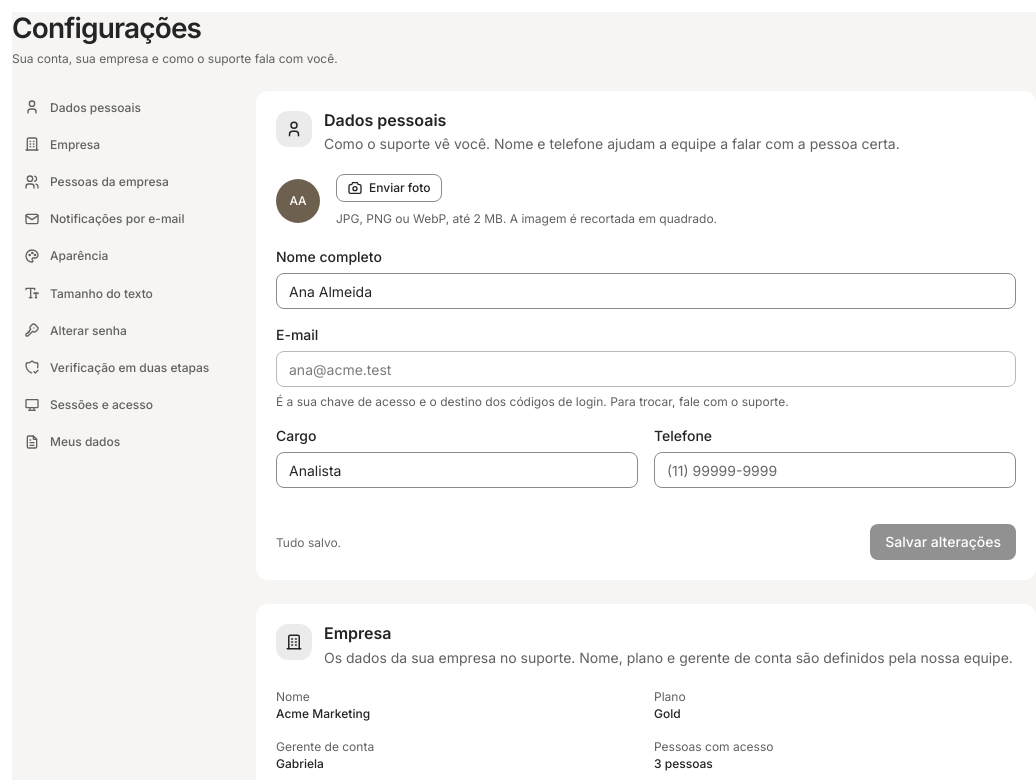
Scenario: PaginaConfiguracoes › dados pessoais: e-mail travado, nome editável, salvar só depois de mudar algo
This screenshot has width=1036, height=780.
Expected: the field labelled "E-mail" is disabled, [276, 351, 1016, 387]
Expected: the button "Salvar alterações" is disabled, [870, 524, 1016, 560]
Replace the text in the field labelled "Nome completo" with "Ana Beatriz Almeida" at (646, 291), box [276, 273, 1016, 309]
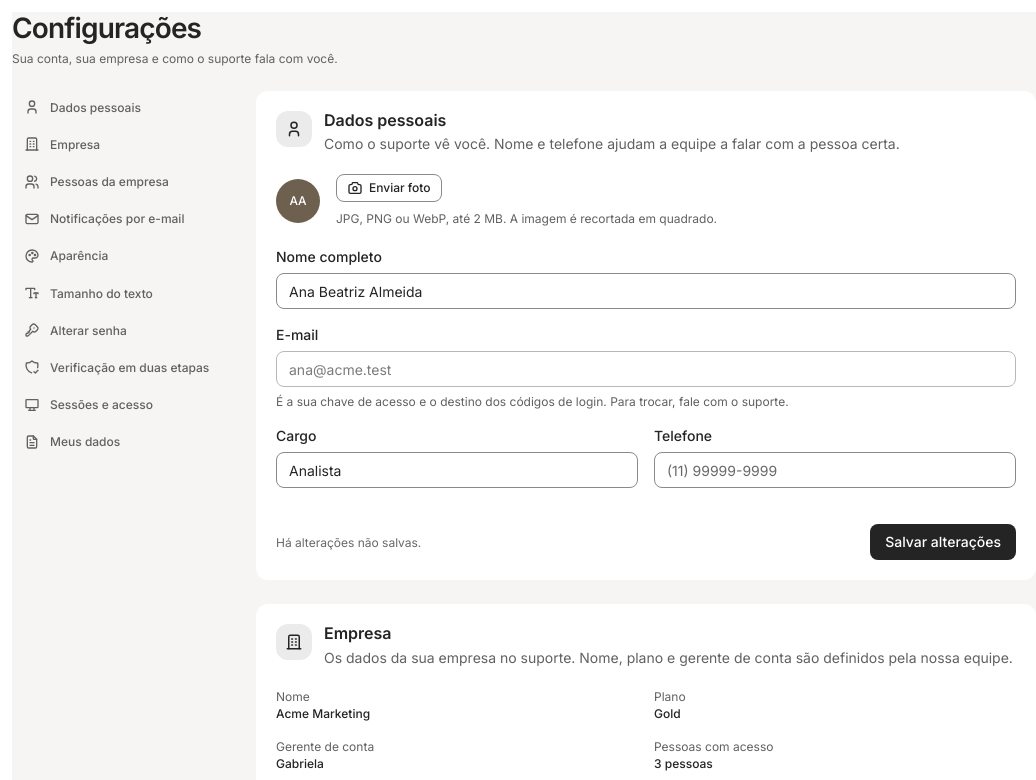
Type "(11) 99999-0000" into the field labelled "Telefone".
click(835, 470); type("(11) 99999-0000")  # box [654, 452, 1016, 488]
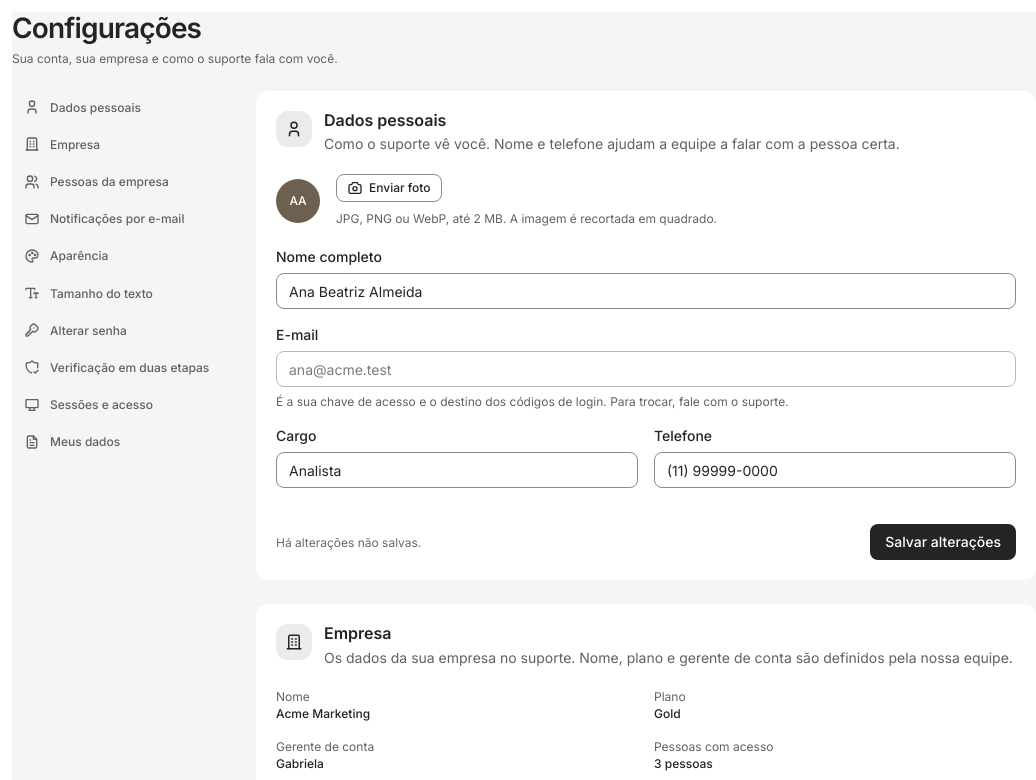
Now the button "Salvar alterações" is enabled
Click the button "Salvar alterações".
click(943, 542)  # box [870, 524, 1016, 560]
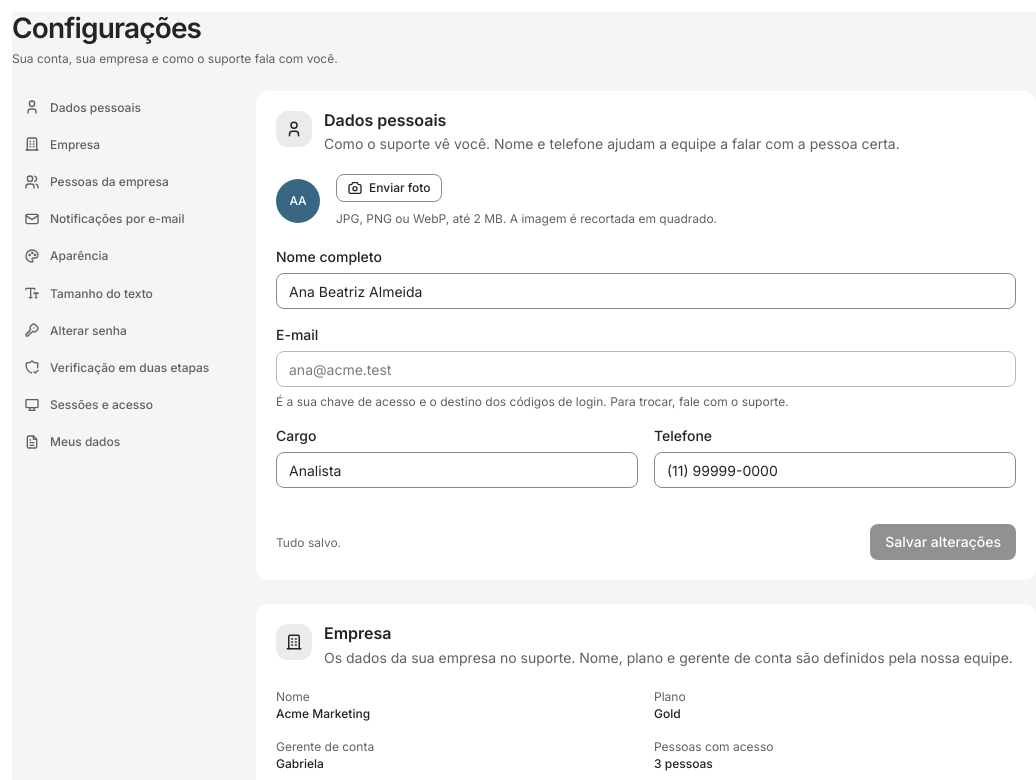
Now the button "Salvar alterações" is disabled, box [870, 524, 1016, 560]
